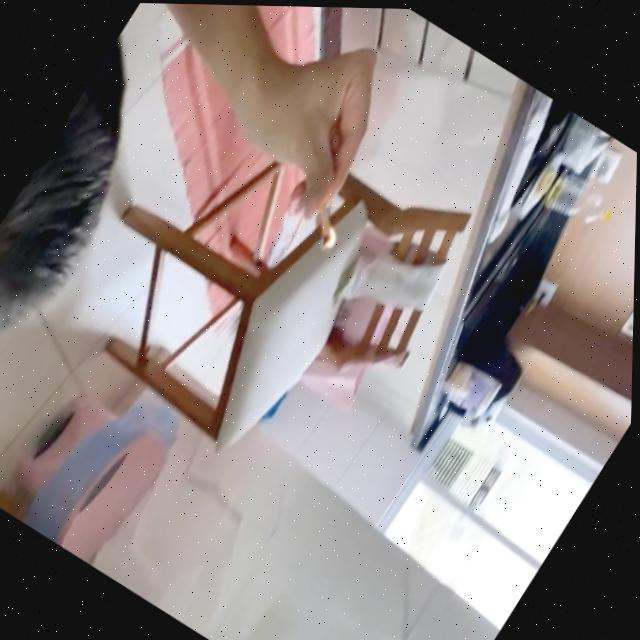Fire: (309, 220, 347, 258)
